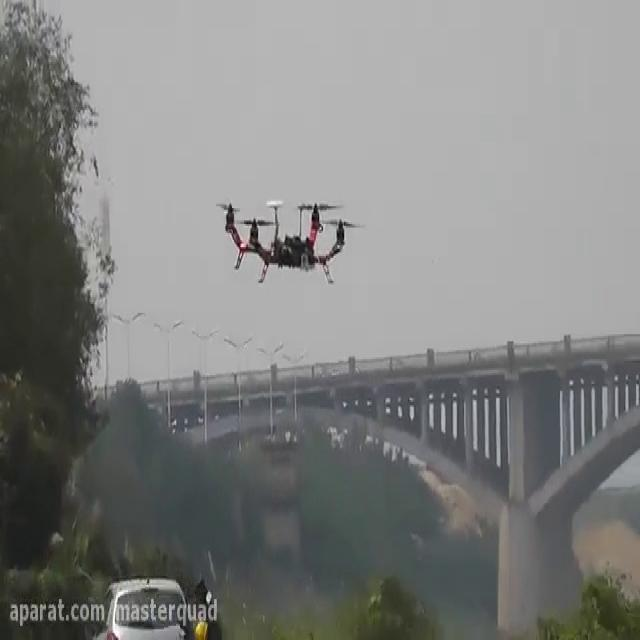drone: (210, 188, 368, 288)
